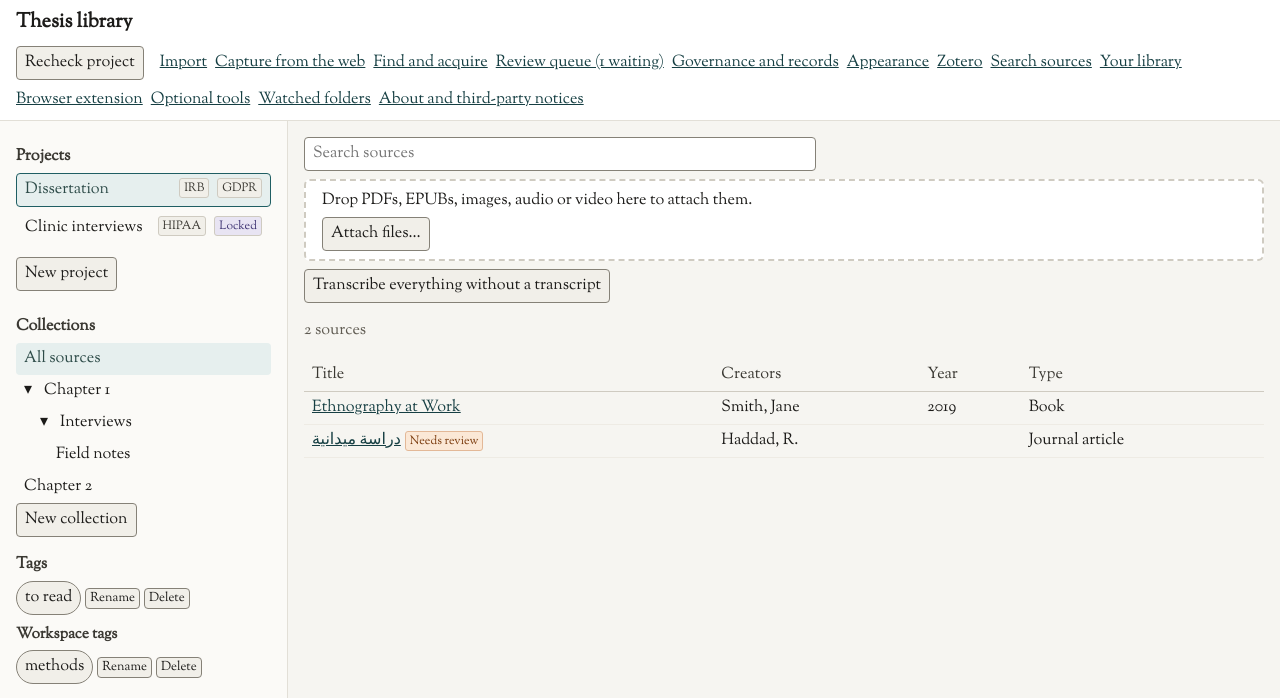
Test: the source's detail inside the library screen: one sentence and one “Try again” for the page (FR-756 remainder) › the panel's read given up while the library's own search failed with no answer: “could not be reached” alone, one “Try again”, which reads both again
This screenshot has width=1280, height=698.
Click the button "Ethnography at Work" at (386, 408), box x1=312 y1=396 x2=461 y2=420
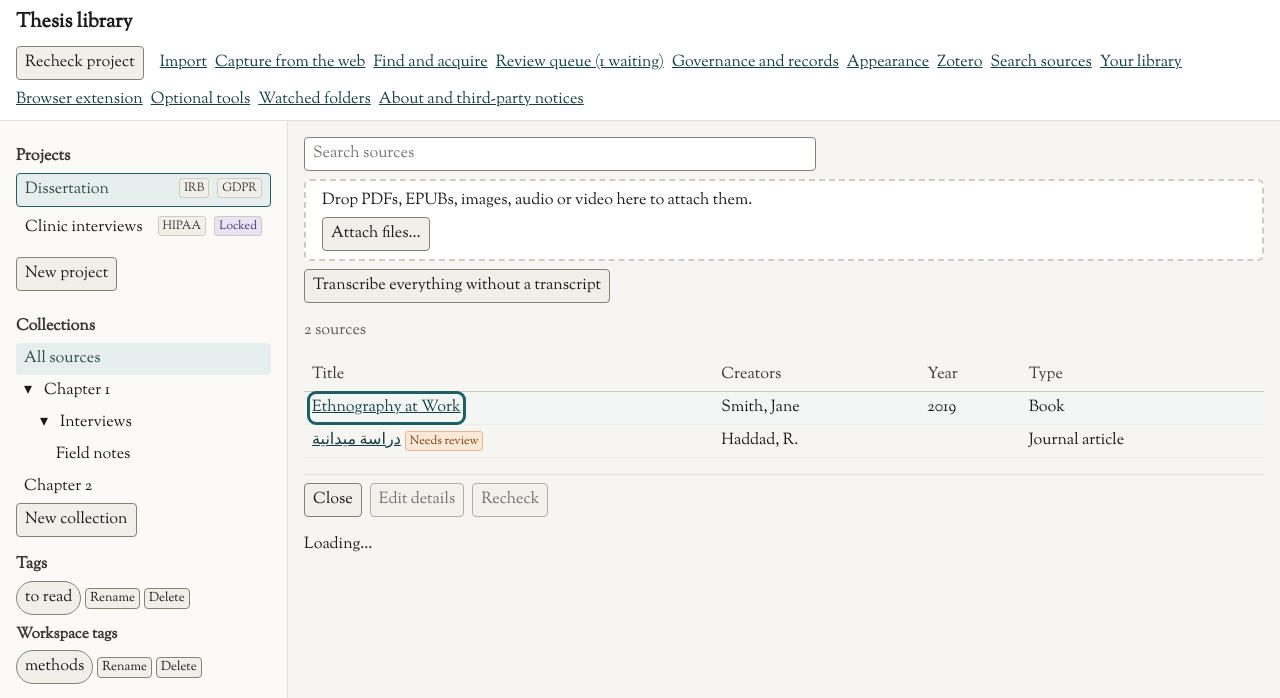
Type "x" into the search field labelled "Search sources" at (560, 154), box x1=304 y1=137 x2=816 y2=171
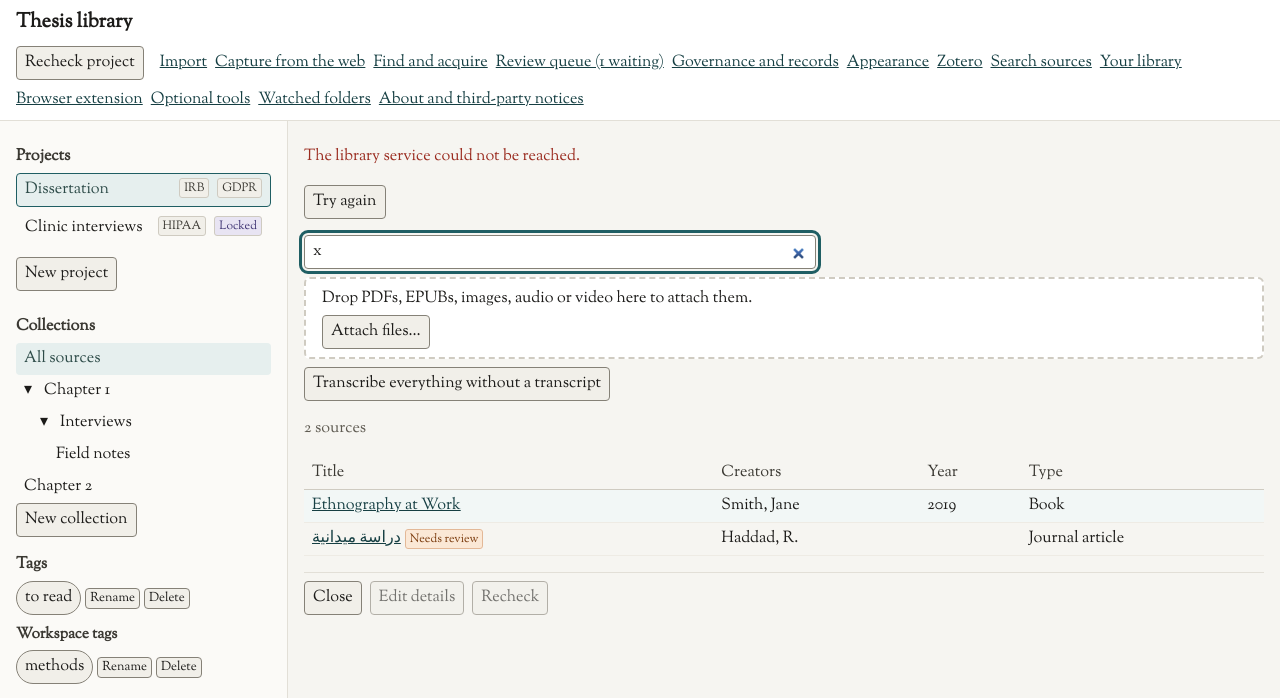
Now the number of buttons "Try again" is 1
Click the button "Try again" at (345, 202), box x1=304 y1=185 x2=386 y2=219
(page scrolled)
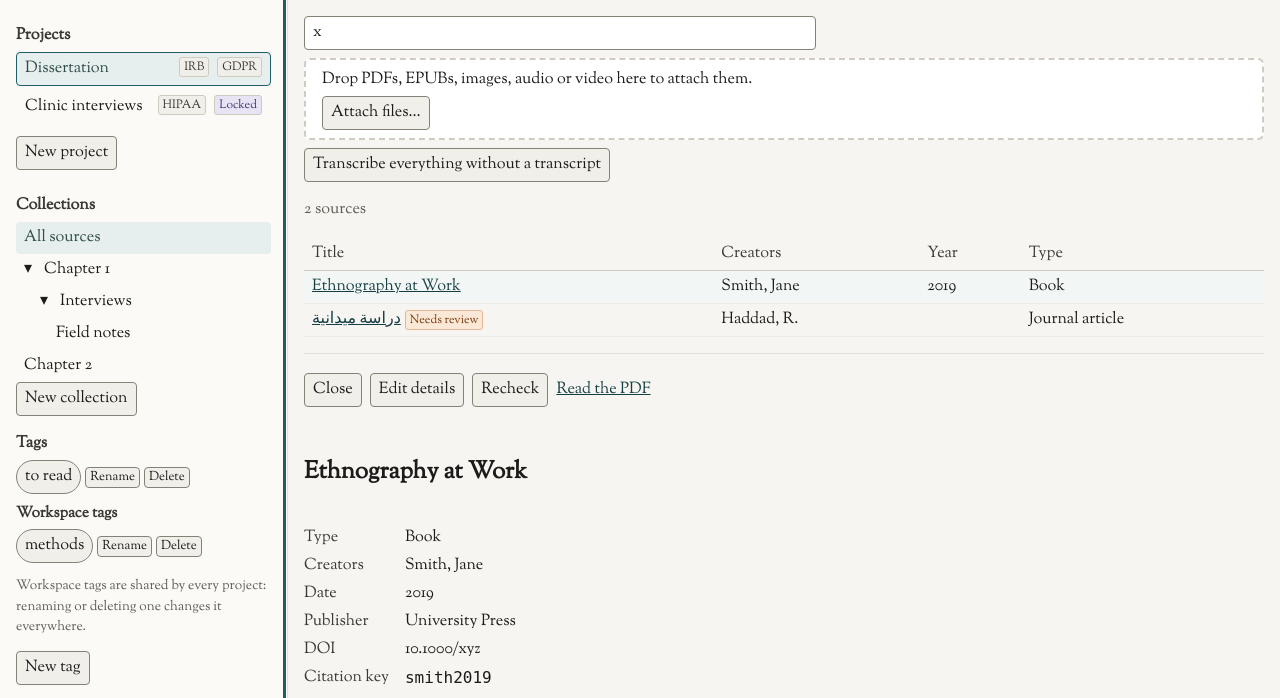
Now the heading "Ethnography at Work" is shown, box x1=304 y1=454 x2=527 y2=490
Now no buttons "Try again" are shown
